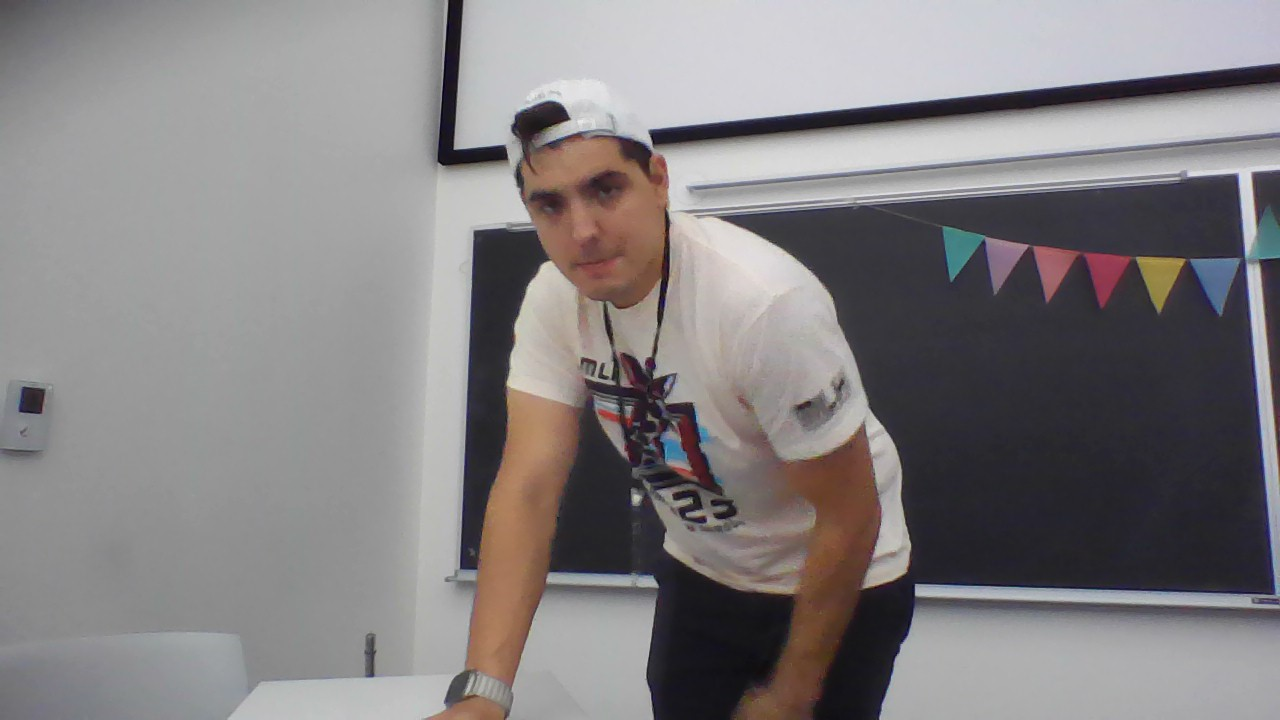height_frame: (494, 65, 941, 716)
hip_frame: (660, 544, 914, 576)
shoulder_frame: (520, 262, 821, 293)
waist_frame: (628, 468, 857, 483)
